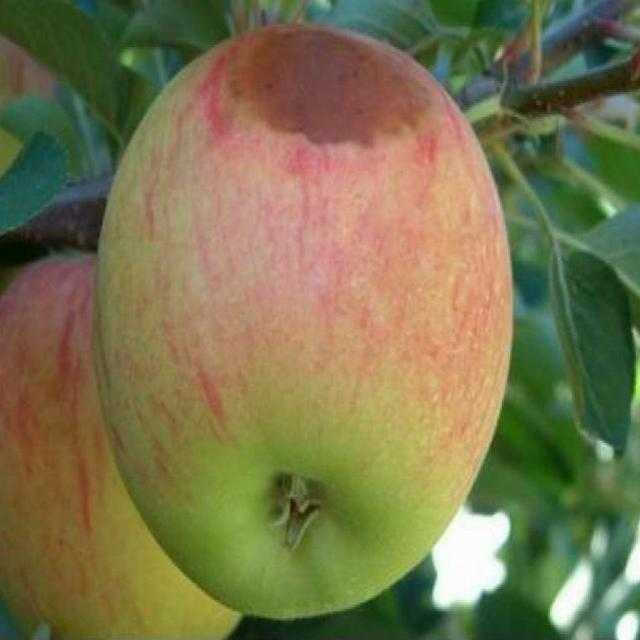Sunscald Fruit: (139, 6, 296, 130)
